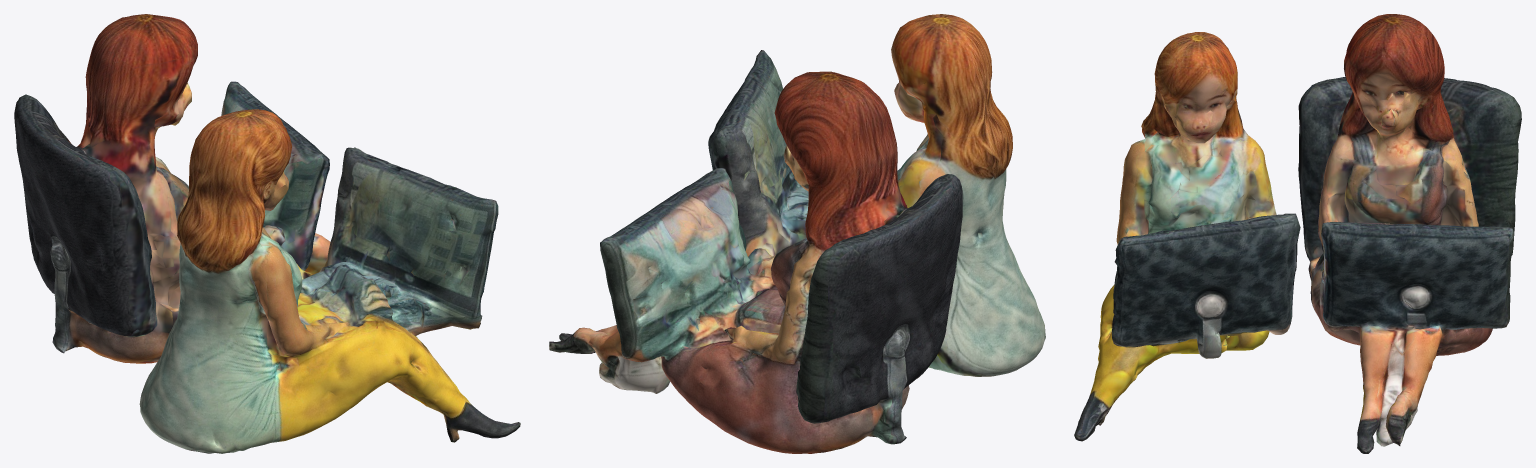
File: model-one.glb
3 renders of one model, left to right at view 1: azimuth 30°, elevation 25°; view 2: azimuth 150°, elevation 25°; view 3: azimuth 270°, elevation 25°, orthographic. The views are drawn at different scales.
Bounding box in the file's own units: 1.08 × 0.9881 × 1.2.
1 material, 1 textured.
